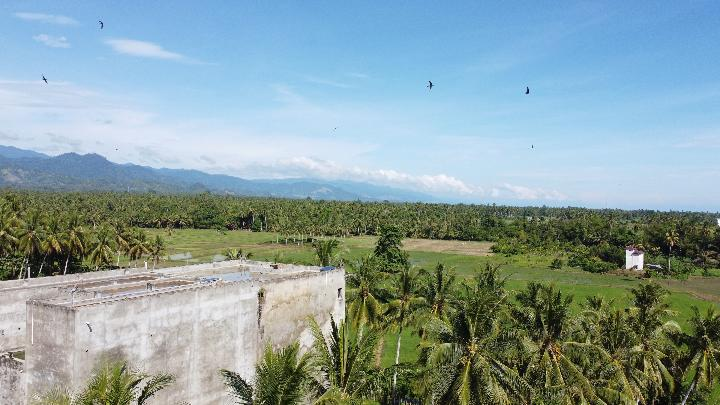walet: (426, 80, 434, 92), (97, 19, 105, 30), (41, 74, 49, 84), (522, 86, 530, 94), (527, 143, 535, 151), (332, 126, 340, 132), (170, 137, 178, 142)
